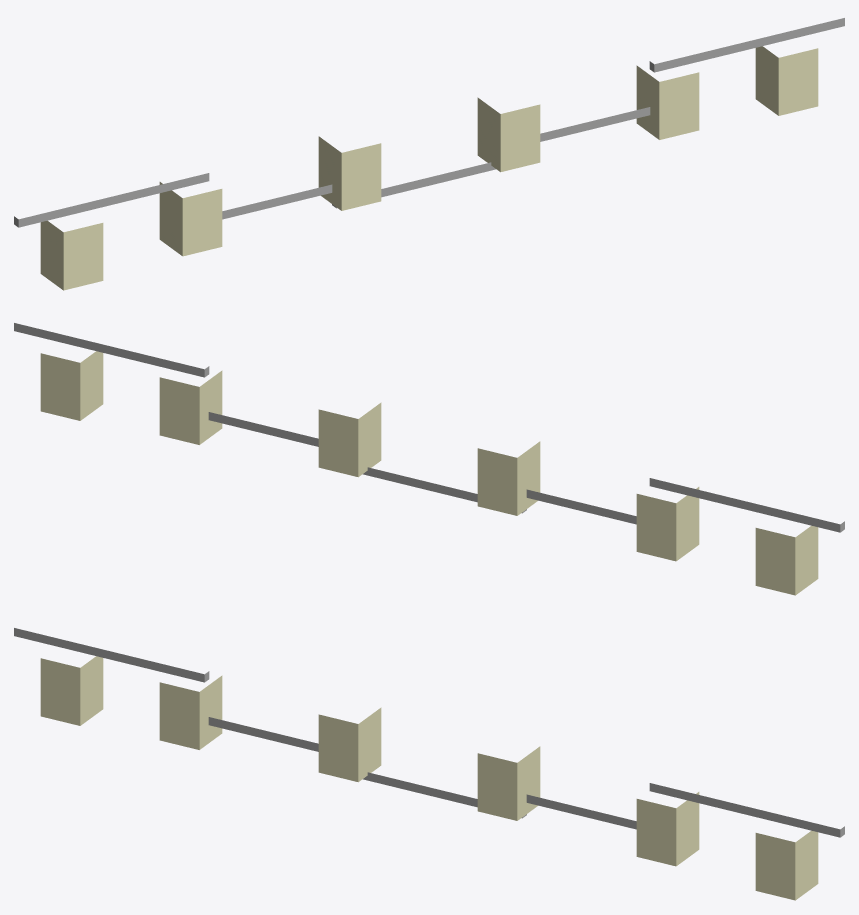
File: string_lights.glb
3 renders of one model, top to bottom at view 1: azimuth 30°, elevation 25°; view 2: azimuth 150°, elevation 25°; view 3: azimuth 330°, elevation 25°, orthographic.
Bounding box in the file's own units: 1.04 × 0.088 × 0.05.
